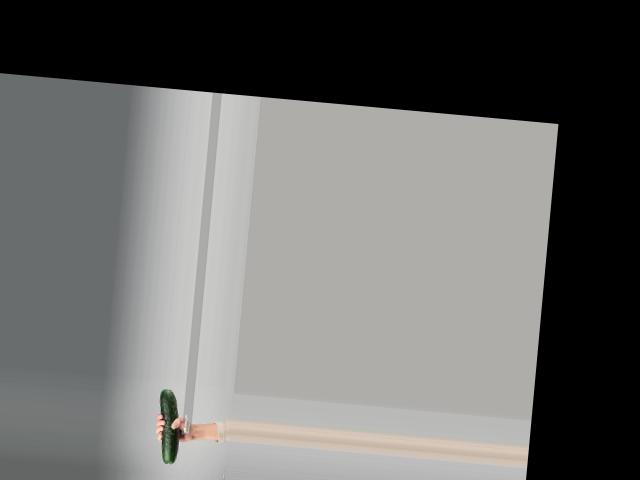cucumber: (154, 388, 183, 462)
